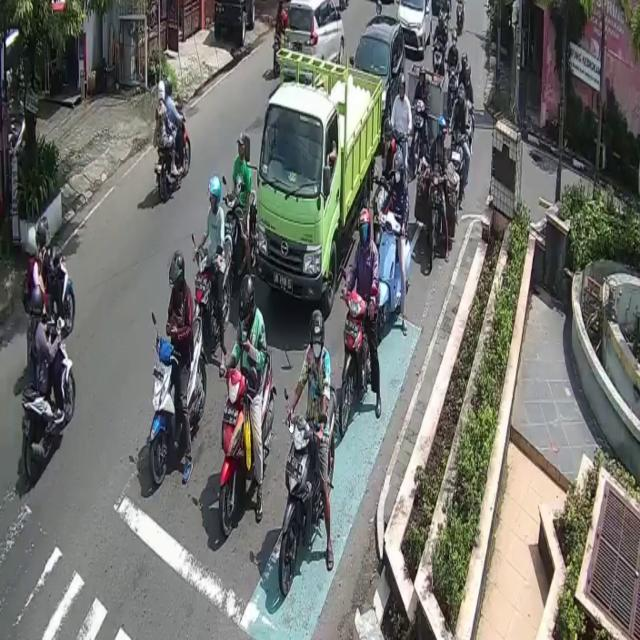bus: (279, 383, 339, 596), (148, 313, 208, 488), (221, 349, 276, 537), (21, 322, 78, 485), (339, 294, 380, 434), (190, 234, 233, 344), (376, 210, 409, 334), (156, 105, 191, 205), (221, 190, 256, 278), (44, 243, 75, 340), (428, 165, 447, 264), (412, 101, 430, 176), (448, 133, 467, 195)
motorcycle: (351, 14, 406, 142), (287, 0, 344, 68), (399, 0, 435, 57)
truck: (256, 45, 384, 313)
